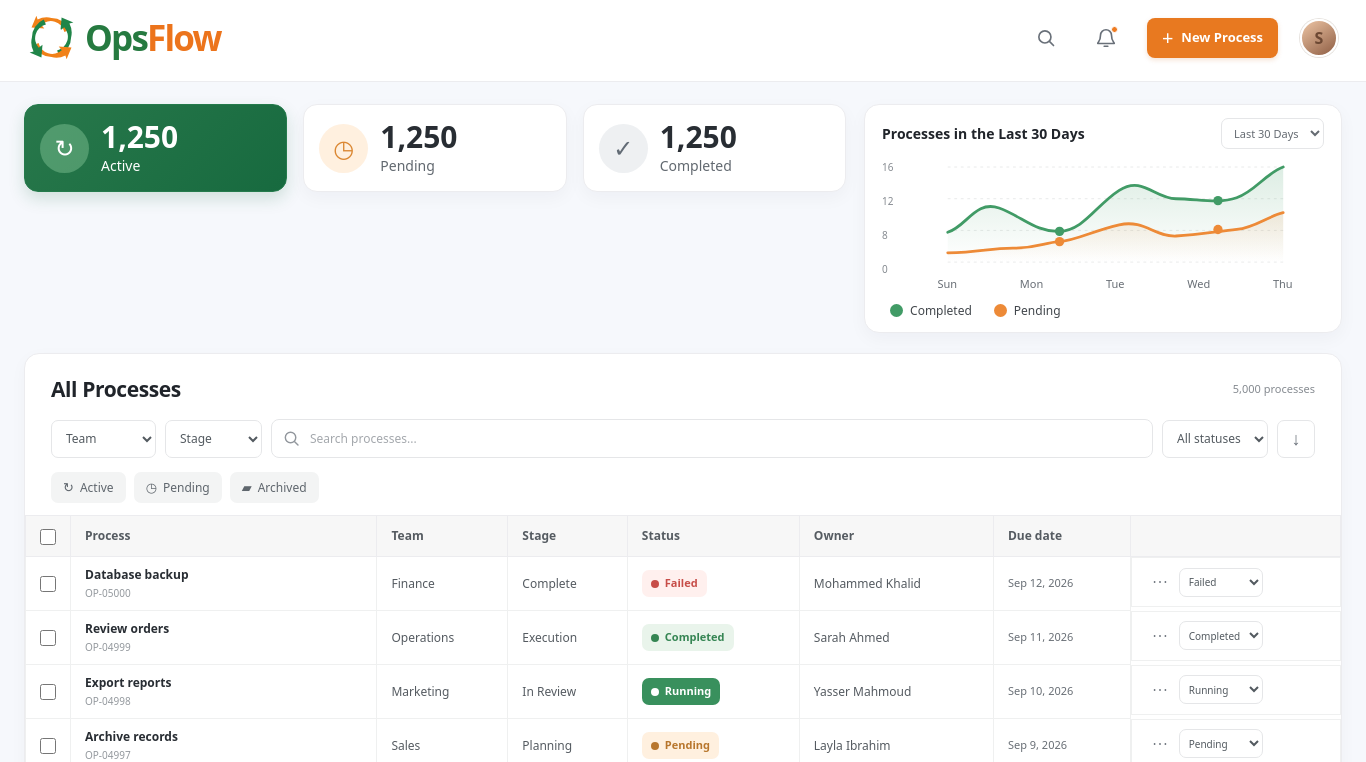
Test: OperationsDashboard › combines name search and status filtering
expect the text "OP-05000" is shown: met, box [85,586,131,600]
Type "Process payments" into the search field named "Search by name or operation ID" at (726, 438), box [310,430,1142,448]
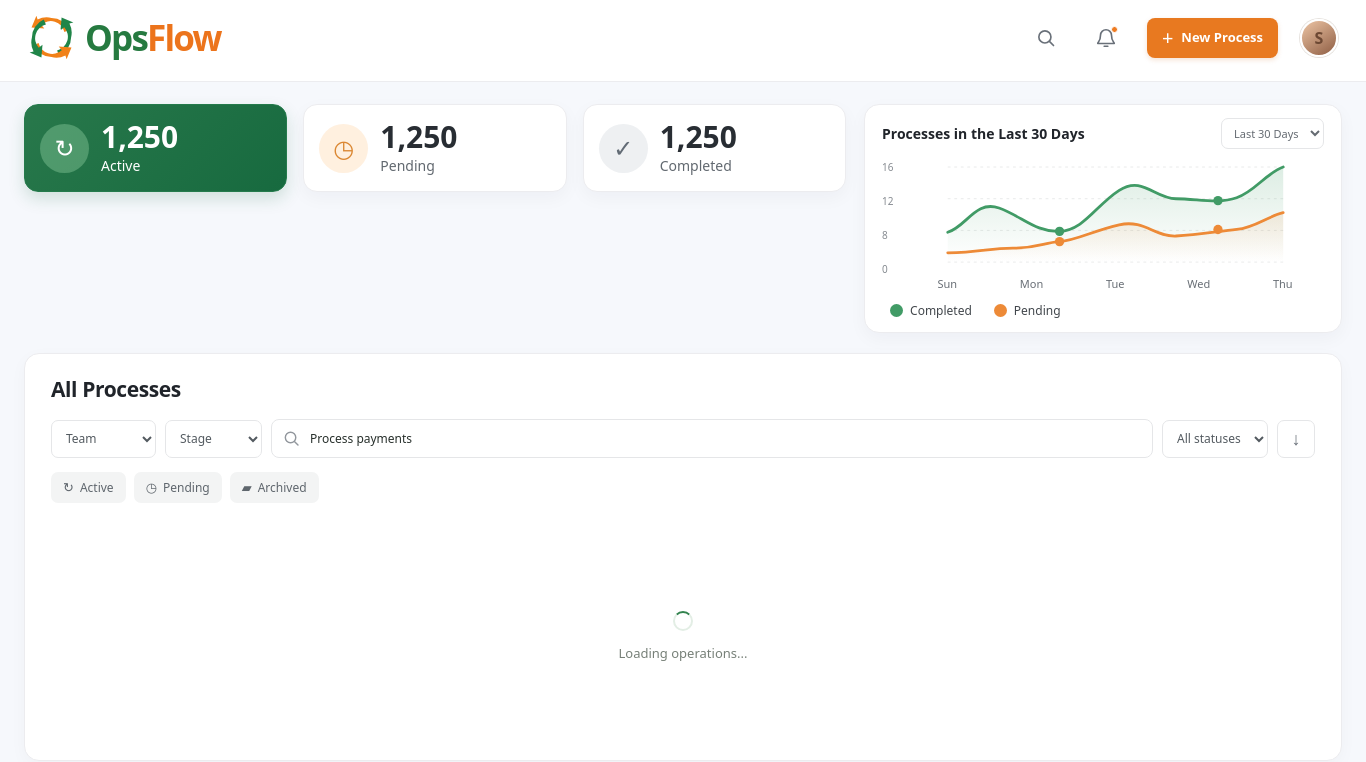
Select "Failed" in the dropdown named "Status" at (1215, 438), box [1162,420,1268,458]
(page scrolled)
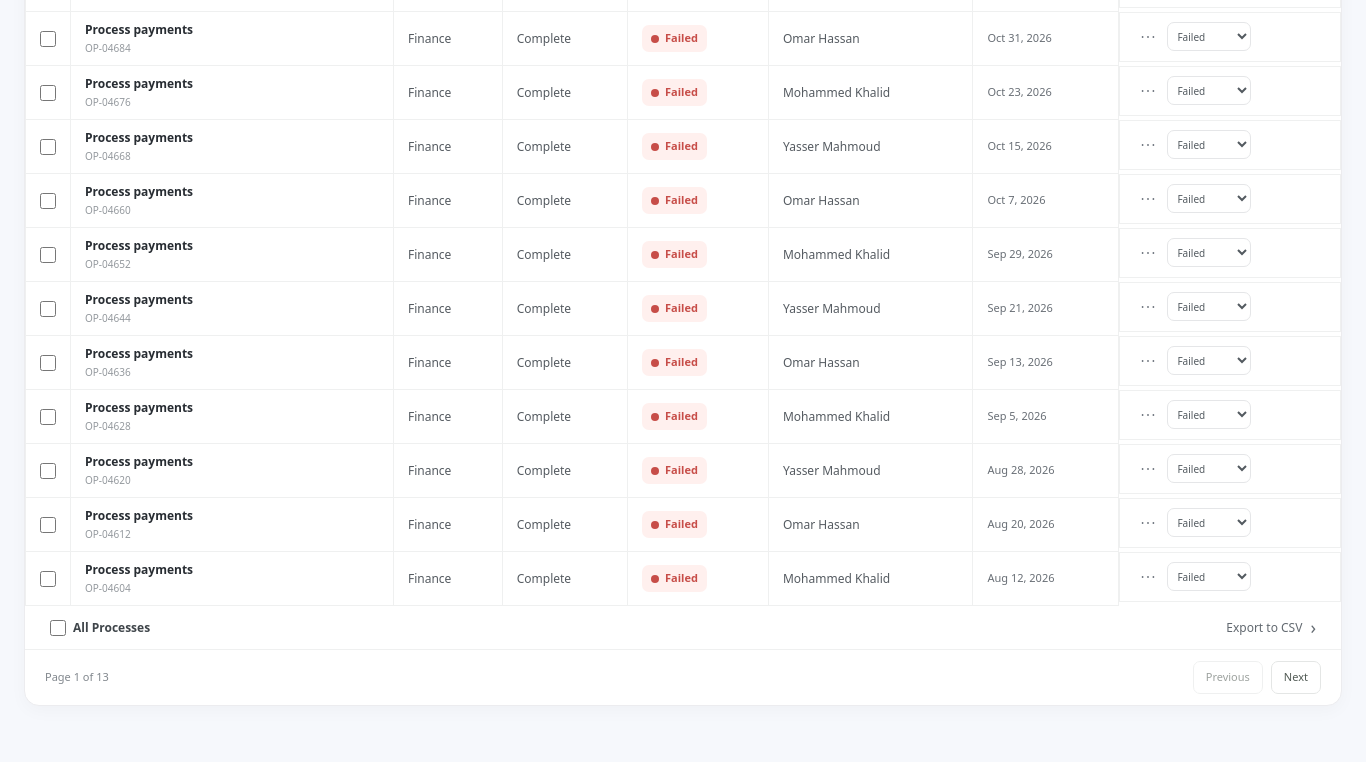
expect the text "Process payments" in the row of "Oct 31, 2026" is shown: met, box [85,21,193,38]
expect the text "Failed" in the row of "OP-04684" is shown: met, box [665,30,698,45]
expect the text "Process payments" in the row of "Oct 23, 2026" is shown: met, box [85,75,193,92]
